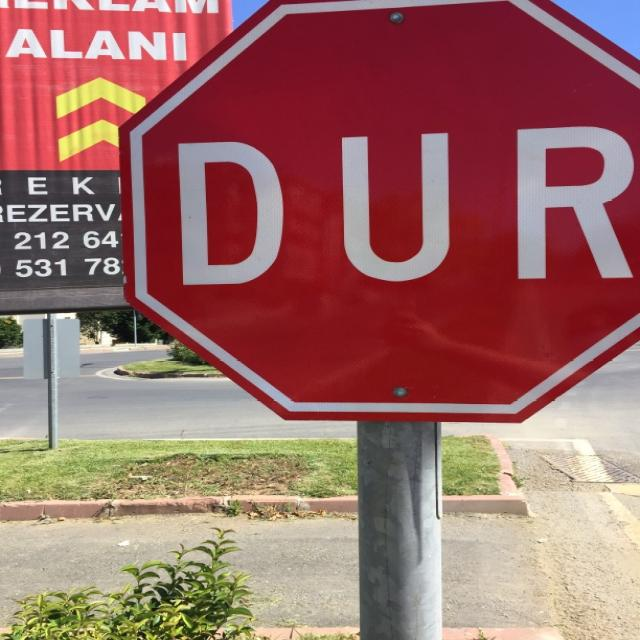dur: (120, 1, 640, 424)
